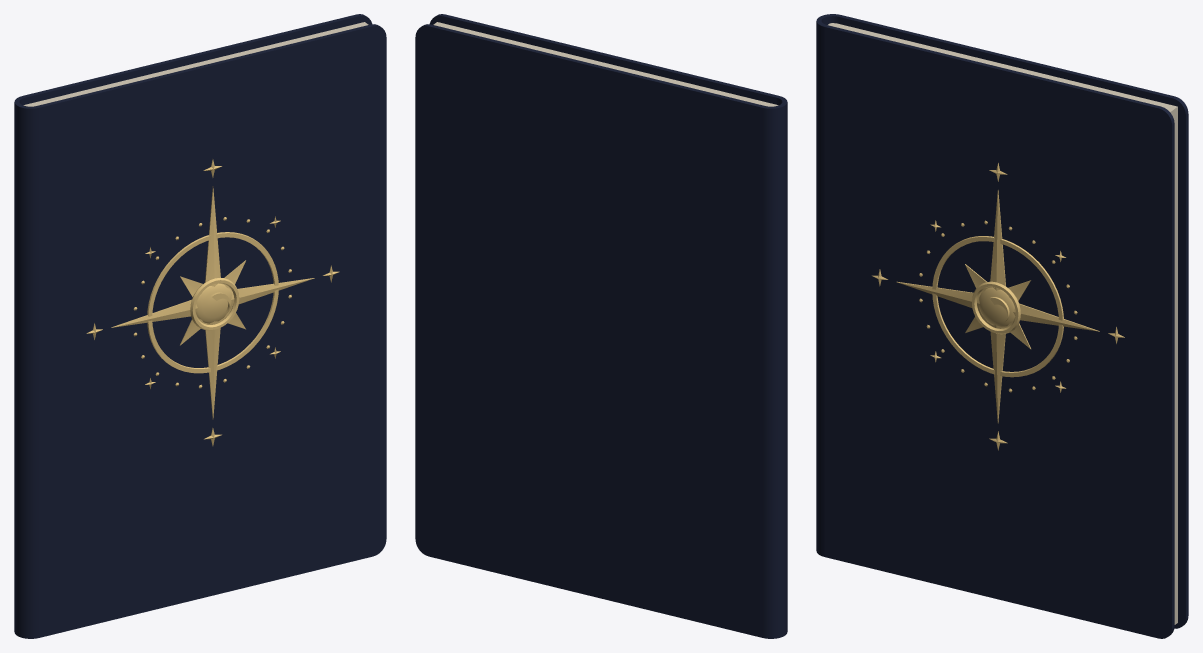
File: Passport_Closed.fbx
3 renders of one model, left to right at view 1: azimuth 30°, elevation 25°; view 2: azimuth 150°, elevation 25°; view 3: azimuth 330°, elevation 25°, orthographic.
Parts seen in each view (by area): view 1: Cover, Back, Pages; view 2: Back, Cover, Pages; view 3: Cover, Back, Pages.
Part boxes in pixels (x1,y1,x2,y2): Cover: (37,24,386,637); Back: (14,14,372,638); Pages: (23,22,368,106); Back: (415,24,787,638); Cover: (429,14,778,104); Pages: (433,22,778,106); Cover: (824,25,1174,638); Back: (816,14,1188,628); Pages: (828,23,1177,624).
Size of the model in its own units: 0.1085 by 0.152 by 0.0106.
